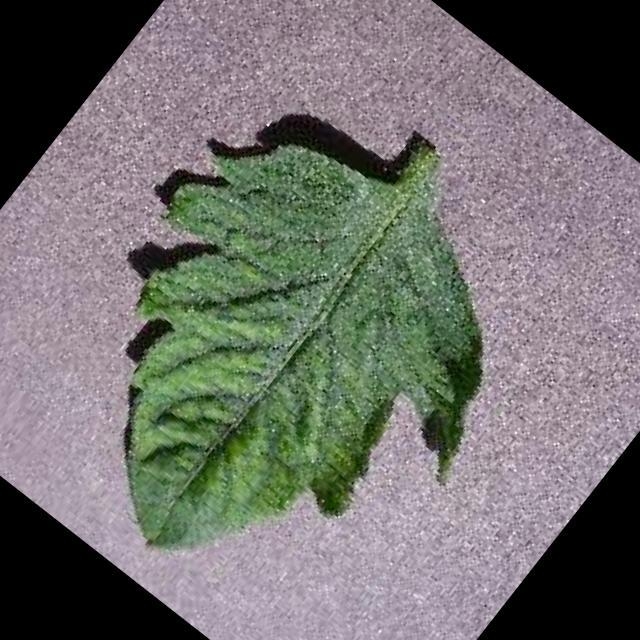Tomato mosaic virus leaf: (0, 65, 580, 640)
